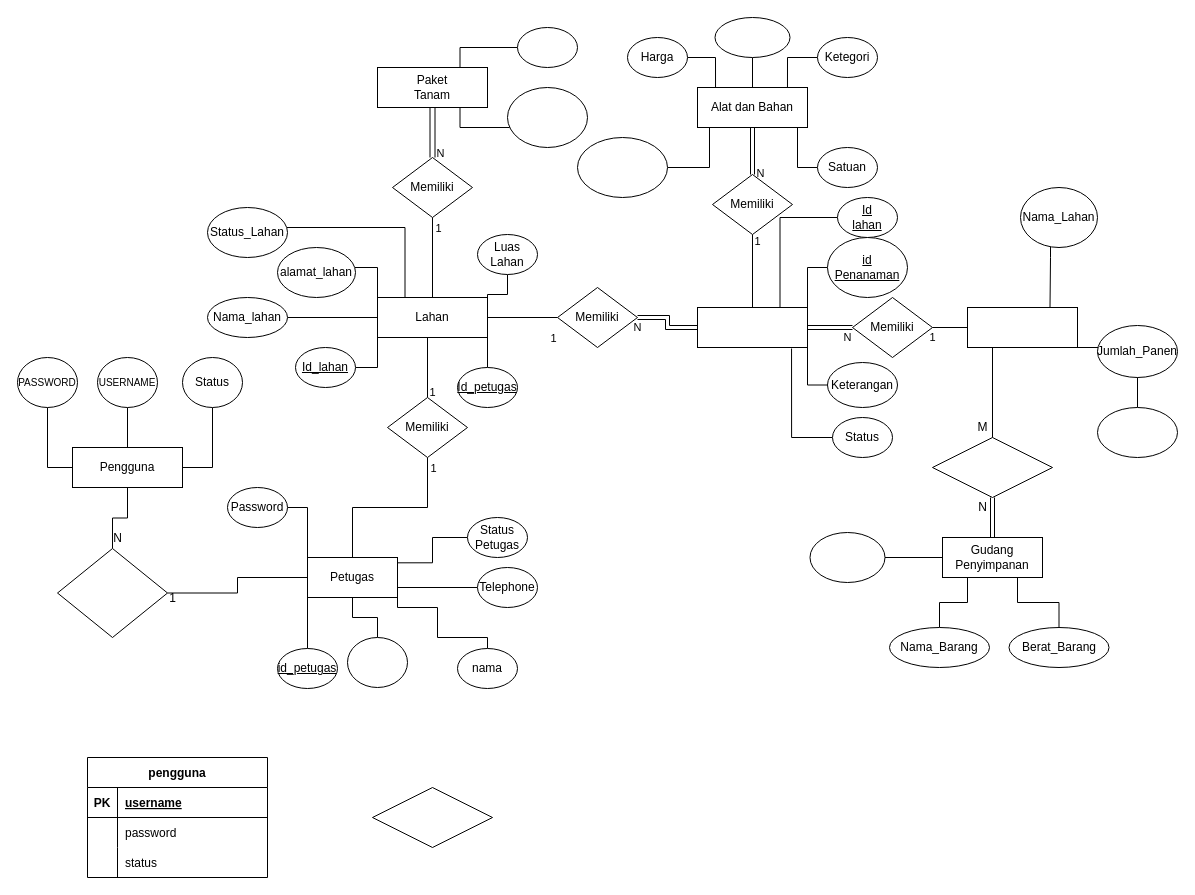
Some shapes in this 1195 by 895 pixel diagram are drawn without their labels. Each missing label, with the centre of its shape:
"check_pendaftaran" belongs at point 432,817.
"check_pendataan" belongs at point 112,593.
"Hasil Panen" belongs at point 1022,327.
"id alat_bahan" belongs at point 752,37.
"Id_gudang" belongs at point 847,557.
"Id_paket" belongs at point 547,47.
"Jenis_Kelamin" belongs at point 377,662.
"Nama_Alat/Bahan" belongs at point 622,167.
"Nama_paket" belongs at point 547,117.
"Penanaman" belongs at point 752,327.
"Satuan_Panen" belongs at point 1137,432.
"Transfer data" belongs at point 992,467.
